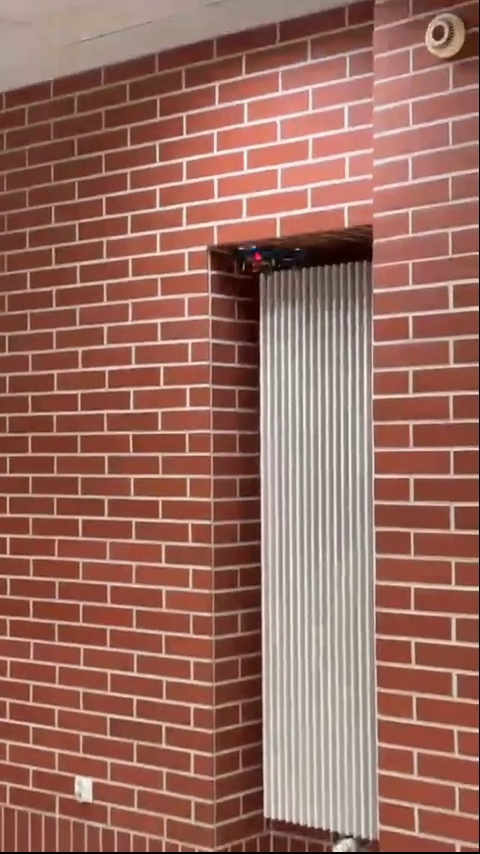drone: (230, 241, 318, 279)
